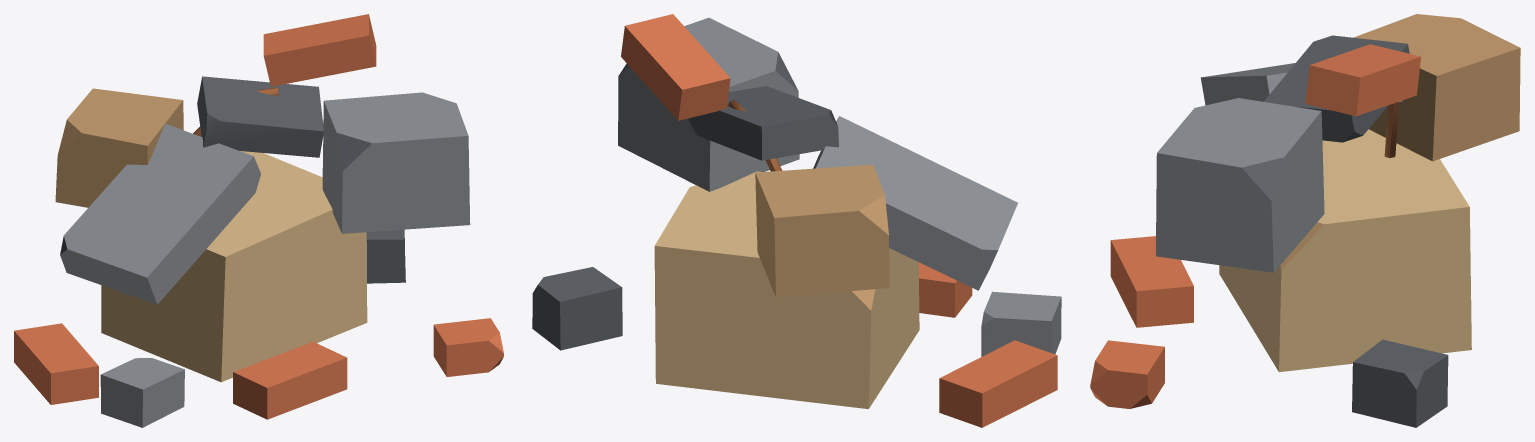
The model's file is rubble-pile.lod1.glb.
3 views of the same model, side by side, from view 1: azimuth 30°, elevation 25°; view 2: azimuth 150°, elevation 25°; view 3: azimuth 270°, elevation 25° (orthographic). The views are drawn at different scales.
Parts seen in each view (by area): view 1: rubble-pile_lod1; view 2: rubble-pile_lod1; view 3: rubble-pile_lod1.
Part boxes in pixels (left/top/right/bottom): rubble-pile_lod1: left=14, top=14, right=503, bottom=427; rubble-pile_lod1: left=532, top=14, right=1061, bottom=427; rubble-pile_lod1: left=1090, top=14, right=1520, bottom=427.
Size of the model in its own units: 0.8966 by 0.5643 by 0.694.
